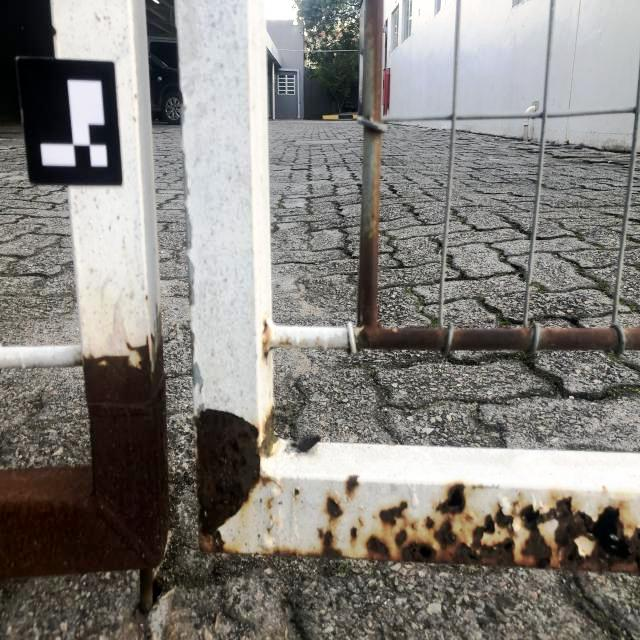Corrosion: (0, 316, 171, 599), (361, 478, 640, 574), (355, 127, 448, 352), (194, 405, 285, 554), (259, 490, 348, 557), (364, 0, 384, 122), (450, 327, 534, 352), (537, 327, 618, 351), (261, 316, 293, 365), (344, 472, 360, 500), (624, 327, 640, 351), (348, 523, 359, 544), (266, 494, 274, 514), (357, 517, 365, 527), (293, 487, 300, 498), (52, 24, 57, 38)
